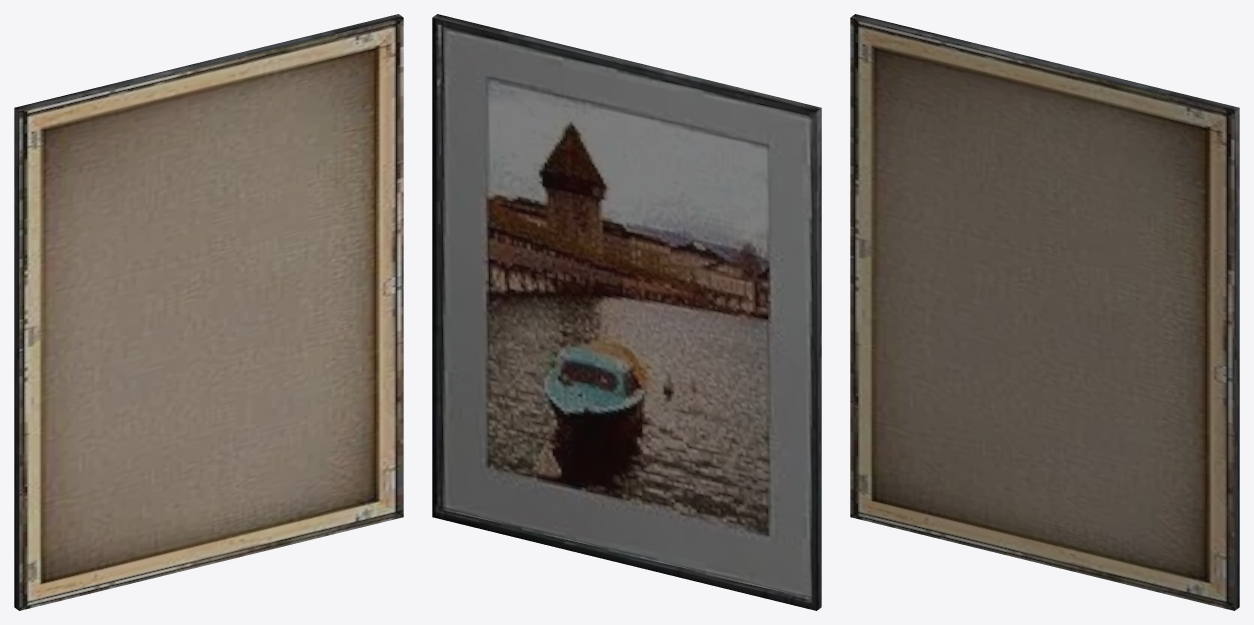
Rendered from offpaintingi.glb.
3 views of the same model, side by side, from view 1: azimuth 30°, elevation 25°; view 2: azimuth 150°, elevation 25°; view 3: azimuth 330°, elevation 25° (orthographic).
Parts seen in each view (by area): view 1: 0_Poster_backing, 1_offpaintingi; view 2: 1_offpaintingi; view 3: 0_Poster_backing, 1_offpaintingi.
Boxes of the visible parts, x1=… form: 0_Poster_backing: x1=19, y1=17, x2=403, y2=610; 1_offpaintingi: x1=14, y1=14, x2=402, y2=610; 1_offpaintingi: x1=432, y1=14, x2=821, y2=610; 0_Poster_backing: x1=850, y1=17, x2=1234, y2=610; 1_offpaintingi: x1=851, y1=14, x2=1239, y2=610.
Bounding box in the file's own units: 0.7847 × 0.9744 × 0.0178.
2 materials, 2 textured.
